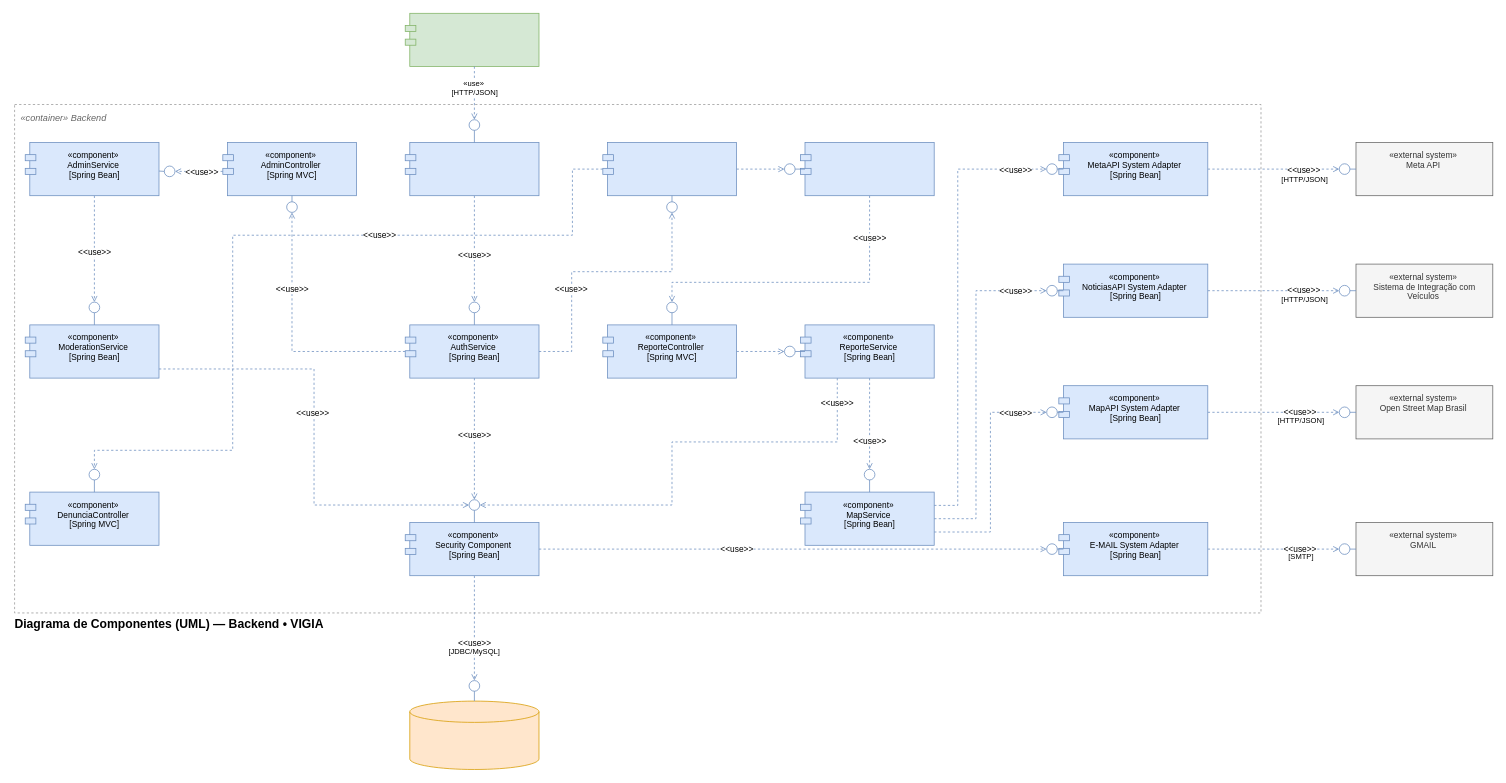
Some shapes in this 1506 by 783 pixel diagram are drawn without their labels. Each missing label, with the centre of its shape:
"IUserService" belongs at [789,168].
"«component» AuthController [Spring MVC]" belongs at [474,169].
"«component» UserController [Spring MVC]" belongs at [672,169].
"«component» UserService [Spring Bean]" belongs at [869,169].
"«container» UI do Sistema [React Native]" belongs at [474,39].
"«database» Banco de Dados [MySQL]" belongs at [474,735].
